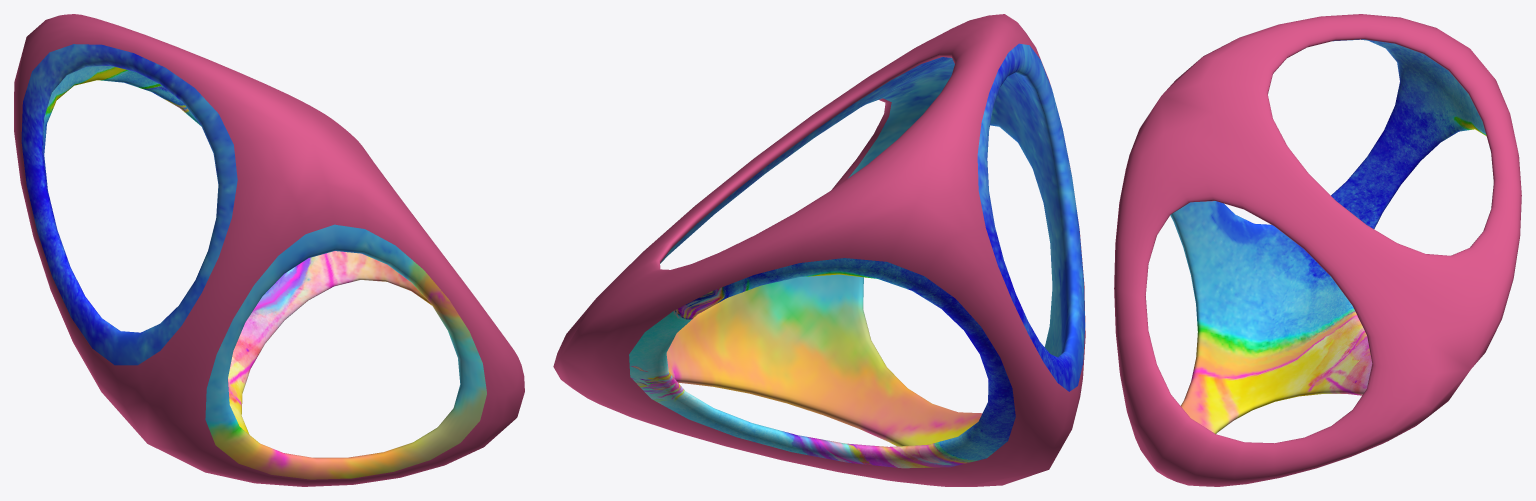
The model's file is fire_snake_unity.fbx.
3 views of the same model, side by side, from view 1: azimuth 30°, elevation 25°; view 2: azimuth 150°, elevation 25°; view 3: azimuth 270°, elevation 25° (orthographic). The views are drawn at different scales.
Visible parts, largest first — view 1: Cube; view 2: Cube; view 3: Cube.
Part boxes in pixels (<box>): Cube: <box>14,14,524,486</box>; Cube: <box>553,14,1085,486</box>; Cube: <box>1114,14,1521,486</box>.
Bounding box in the file's own units: 195 × 195 × 195.
Materials: 2 (1 with a texture image).
